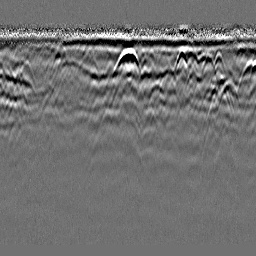cavity: (111, 46, 143, 77)
